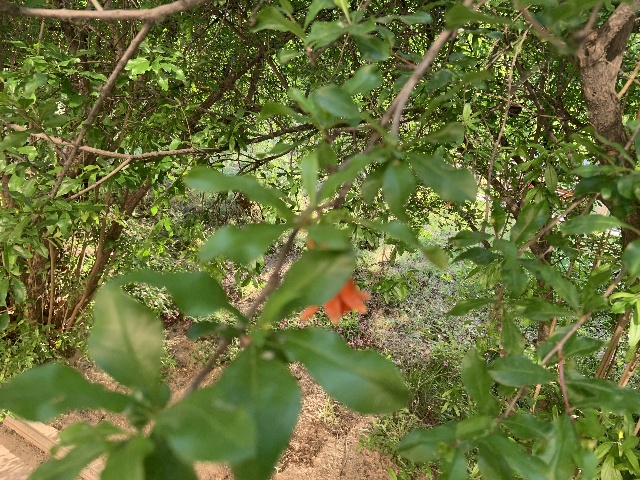flower: (299, 238, 370, 323)
